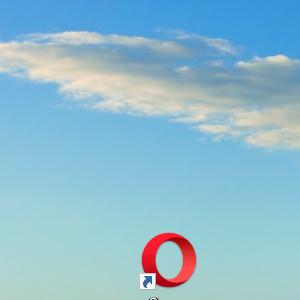opera: (139, 232, 197, 290)
